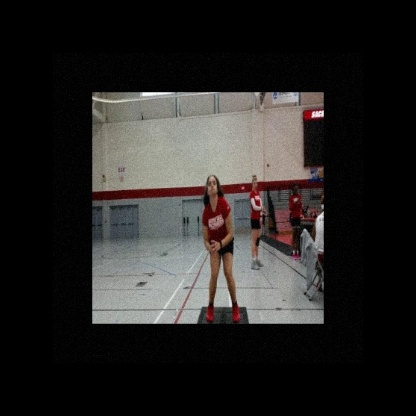lateral_flexion_right: (201, 172, 241, 324)
stance_width_broad: (202, 195, 241, 324)
